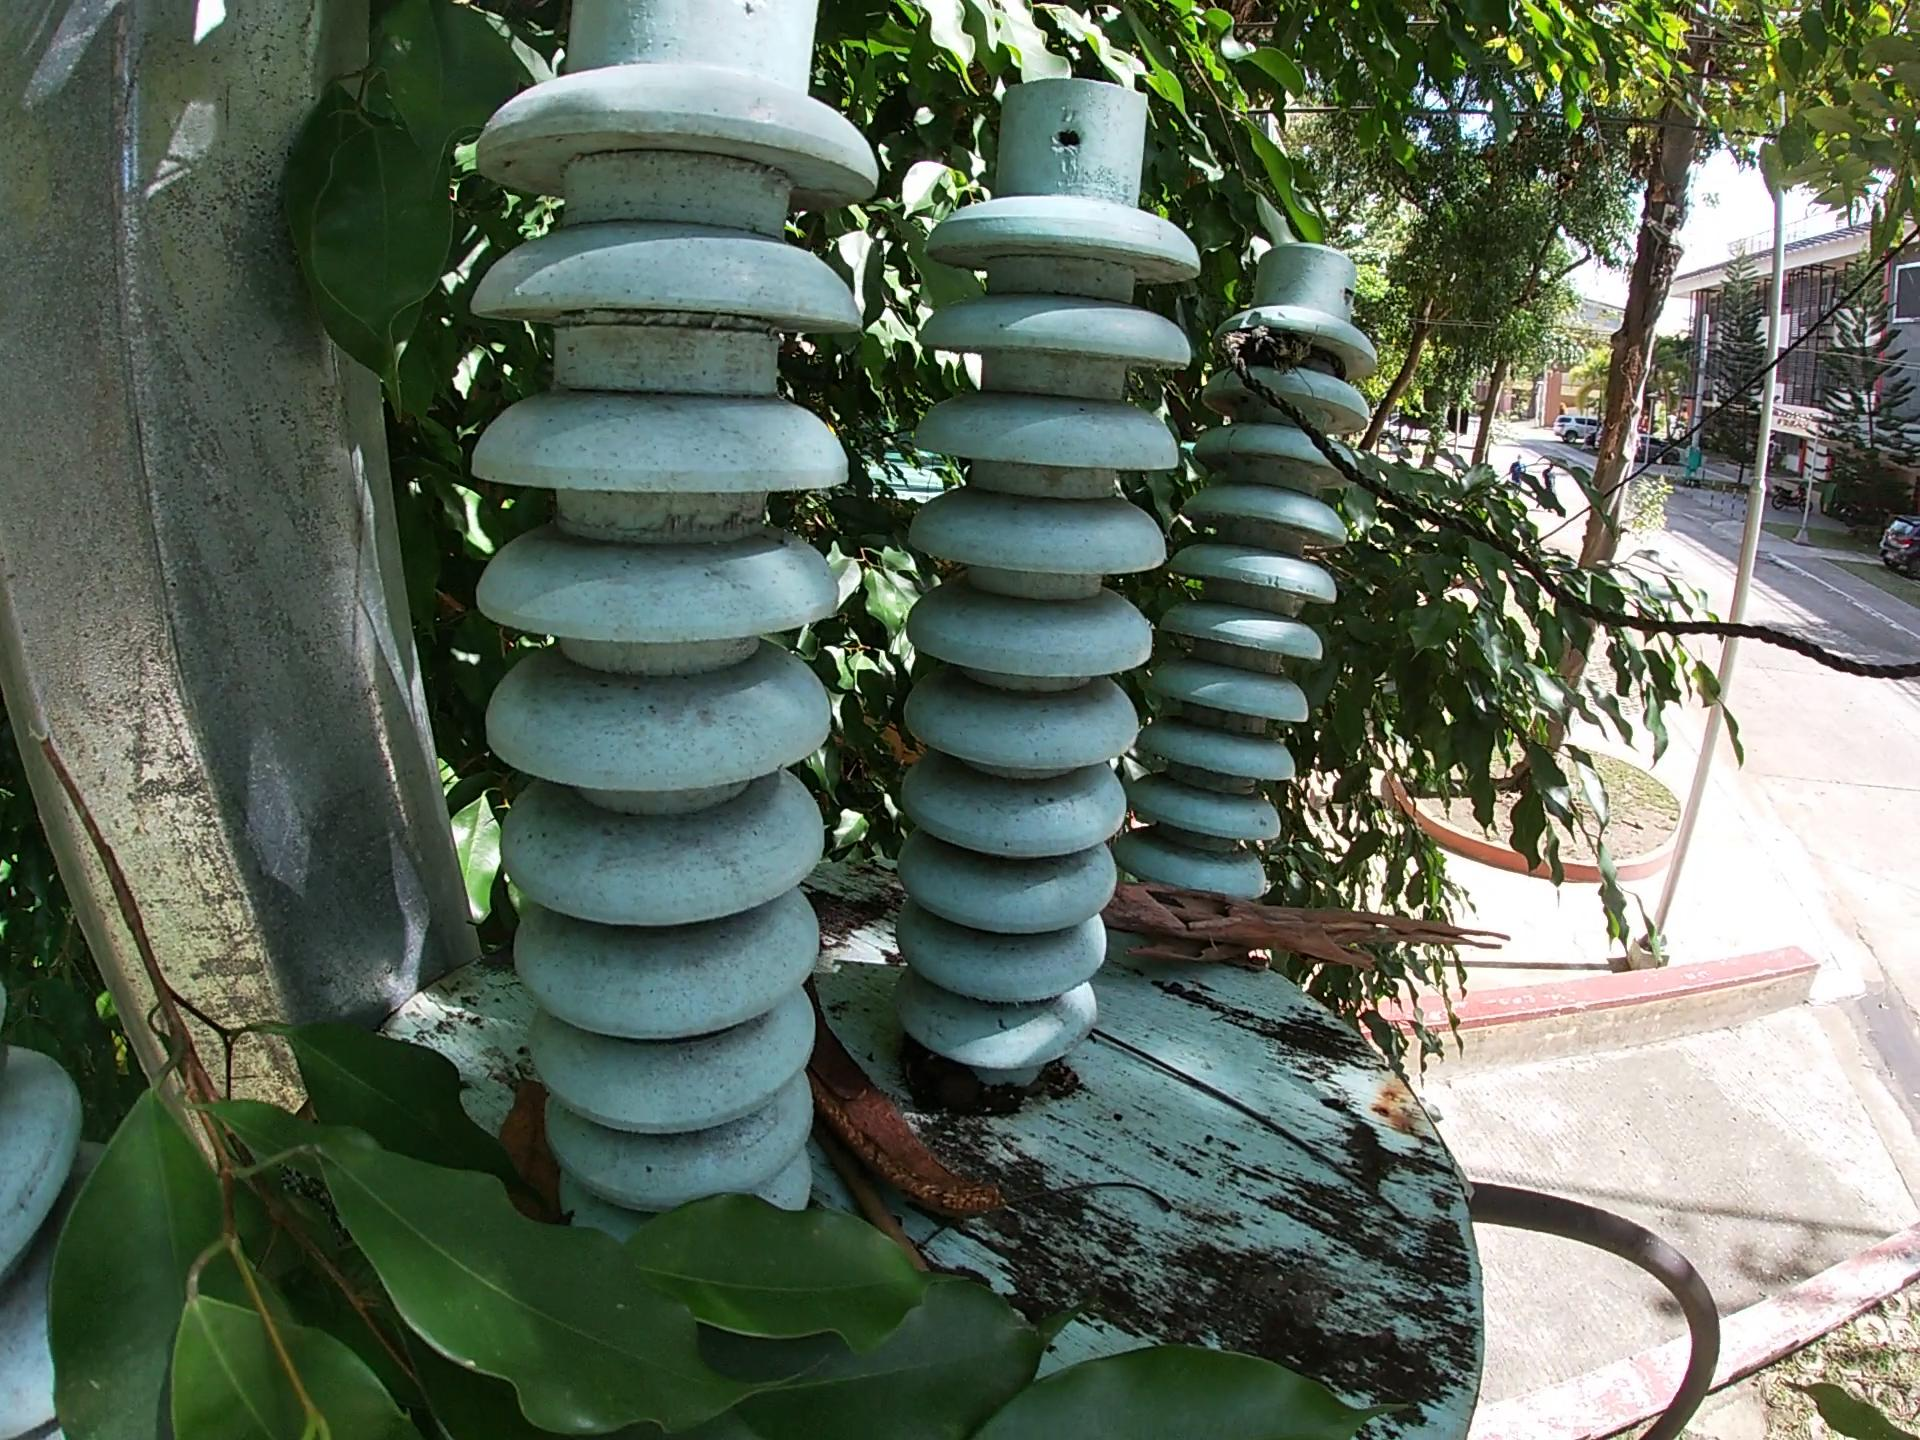branch with leaves: (27, 737, 1442, 1438)
leaf: (497, 1056, 544, 1162)
mahogany fruit: (782, 985, 1013, 1218)
tree branch: (1072, 1010, 1447, 1240), (1095, 843, 1516, 998), (816, 1147, 934, 1271)
